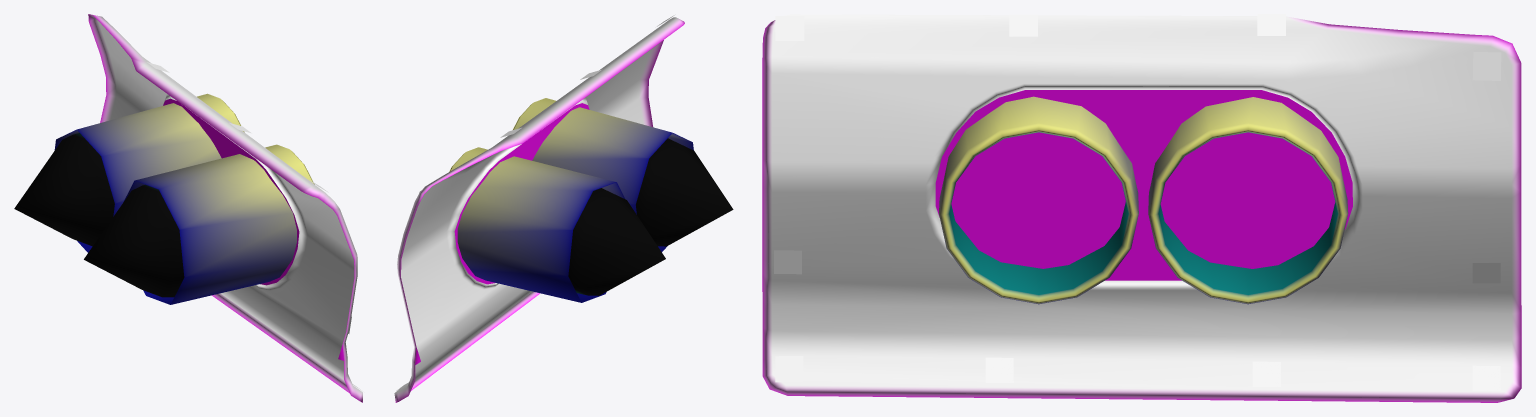
File: Car_Nissan_SkylineGTRVspecR34_1999_Exhausts_SetF_AltC.fbx
3 views of the same model, side by side, from view 1: azimuth 30°, elevation 25°; view 2: azimuth 150°, elevation 25°; view 3: azimuth 270°, elevation 25° (orthographic). The views are drawn at different scales.
Parts seen in each view (by area): view 1: Exhausts 6; view 2: Exhausts 6; view 3: Exhausts 6.
Boxes of the visible parts, box(x1,y1,x2,y2) form: Exhausts 6: box(14, 14, 362, 402); Exhausts 6: box(394, 15, 733, 402); Exhausts 6: box(762, 14, 1521, 402).
Bounding box in the file's own units: 0.129 × 0.1383 × 0.269.
